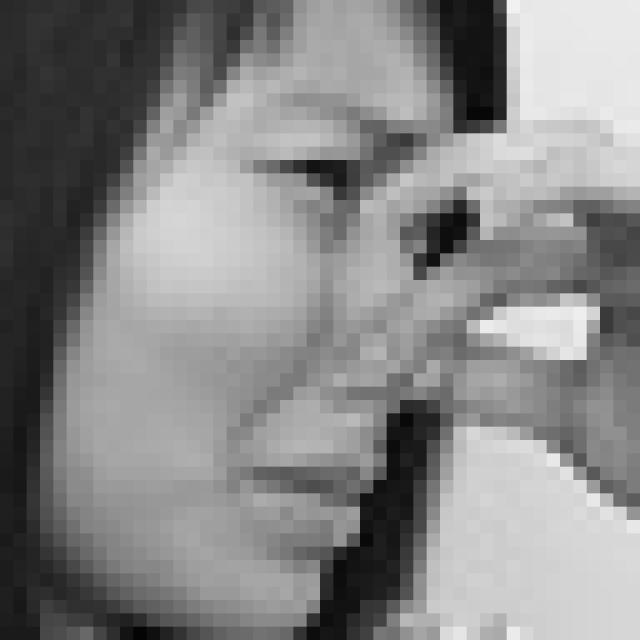disgust: (212, 82, 462, 559)
